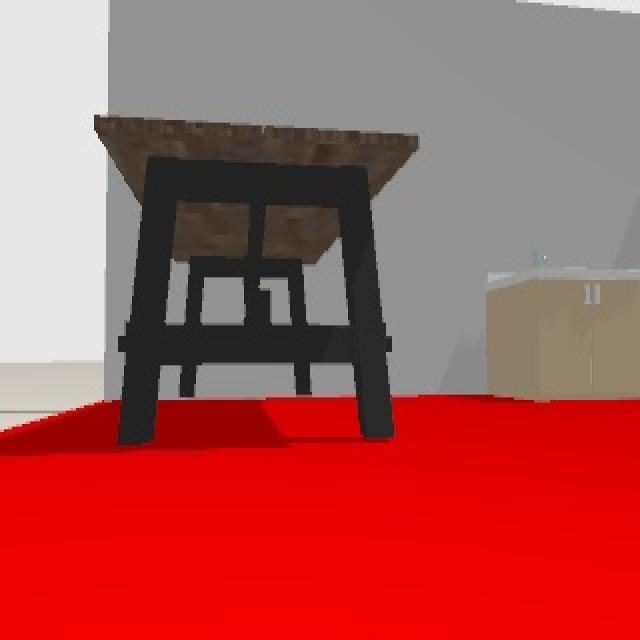dining: (93, 117, 420, 439)
